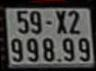-: (46, 21, 52, 25)
.: (57, 59, 61, 62)
2: (69, 10, 80, 34)
5: (17, 11, 29, 34)
8: (43, 38, 55, 62)
9: (11, 38, 23, 62), (27, 38, 39, 61), (63, 38, 75, 61), (78, 38, 90, 61), (30, 11, 42, 33)
X: (55, 11, 67, 34)
